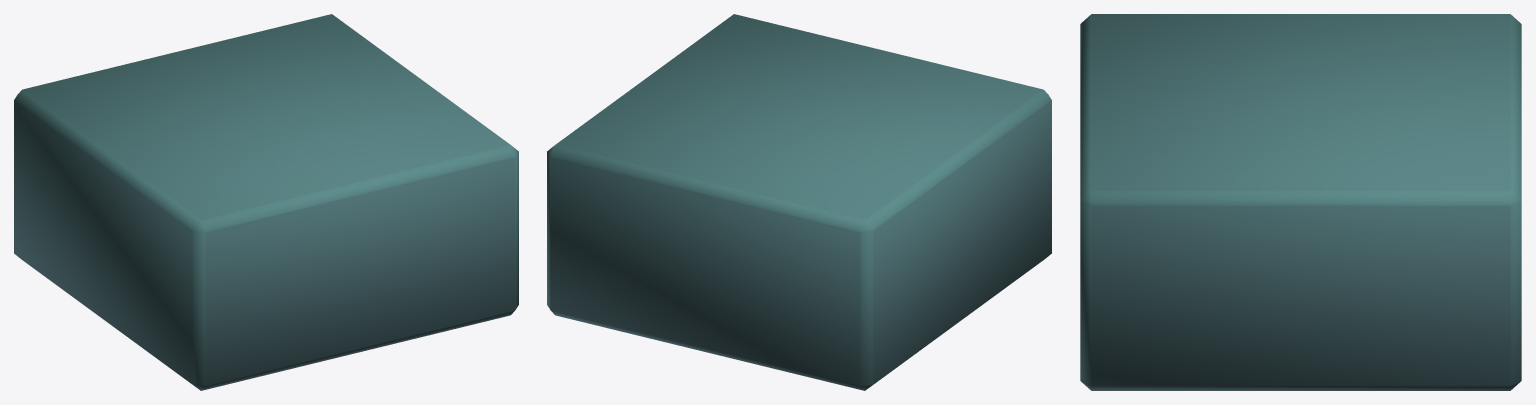
File: cube_06_hue_1.fbx
3 views of the same model, side by side, from view 1: azimuth 30°, elevation 25°; view 2: azimuth 150°, elevation 25°; view 3: azimuth 270°, elevation 25° (orthographic). The views are drawn at different scales.
Parts seen in each view (by area): view 1: cube_06_hue_1; view 2: cube_06_hue_1; view 3: cube_06_hue_1.
Part boxes in pixels (left/top/right/bottom): cube_06_hue_1: left=14, top=14, right=518, bottom=390; cube_06_hue_1: left=547, top=14, right=1051, bottom=390; cube_06_hue_1: left=1080, top=14, right=1521, bottom=390.
Bounding box in the file's own units: 200 × 100 × 200.
